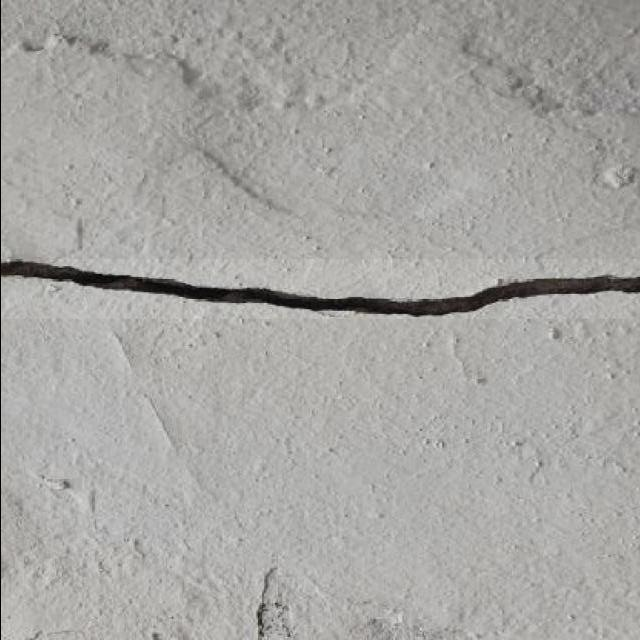Crack: (0, 257, 639, 318)
